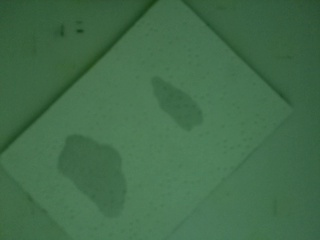Water_detected: (77, 151, 116, 204), (158, 86, 196, 118)
